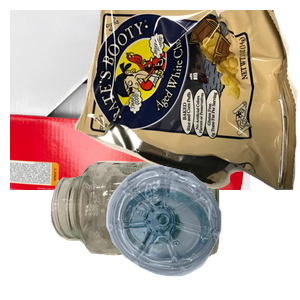cardboard: (10, 10, 250, 190)
glass: (48, 156, 260, 300)
plastic: (104, 163, 300, 300)
trash: (75, 10, 300, 190)
